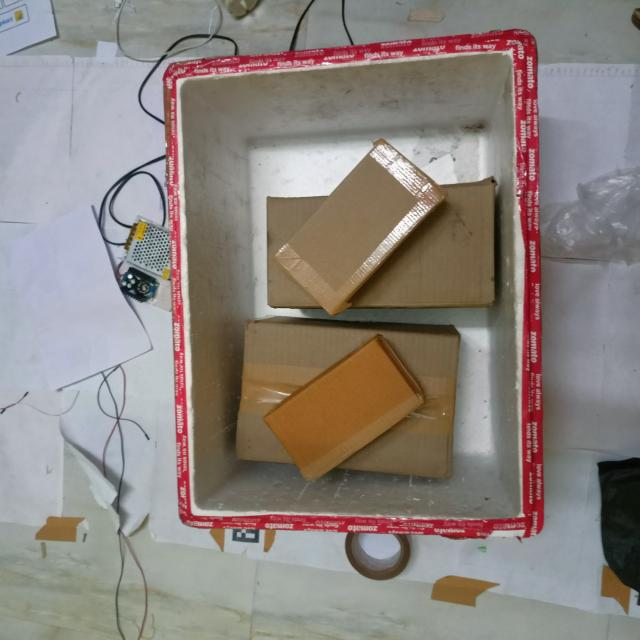box: (276, 139, 445, 315), (265, 349, 419, 492)
